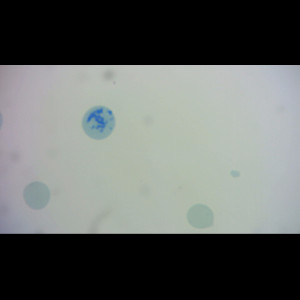aggregate reticulocyte: (81, 105, 116, 140)
erythrocyte: (22, 180, 52, 211), (185, 202, 217, 231)
